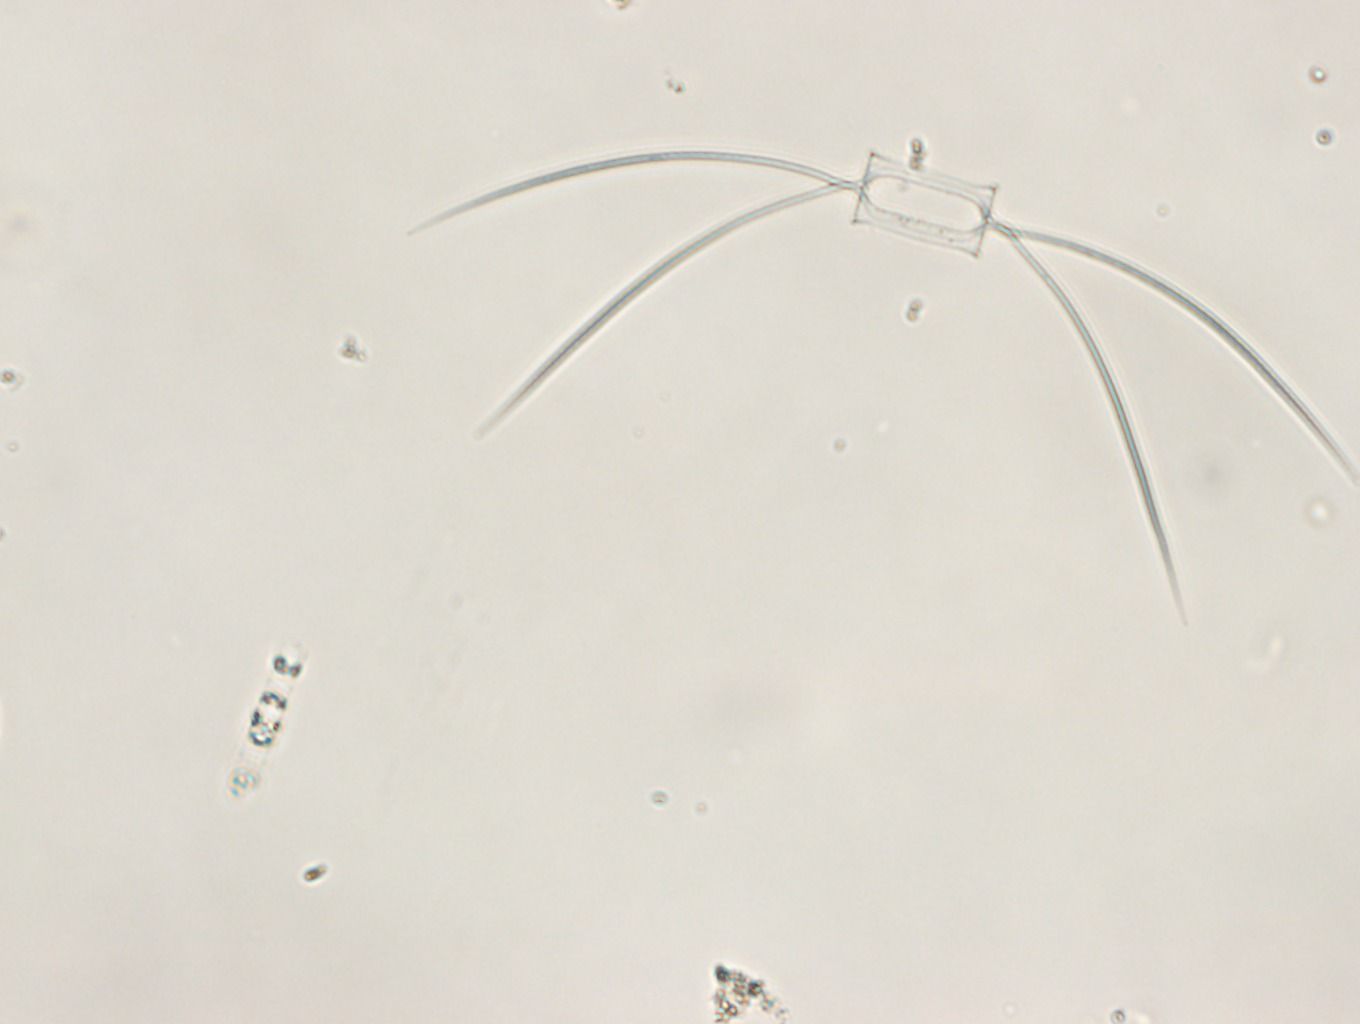chaetoceros: (403, 152, 1359, 627)
